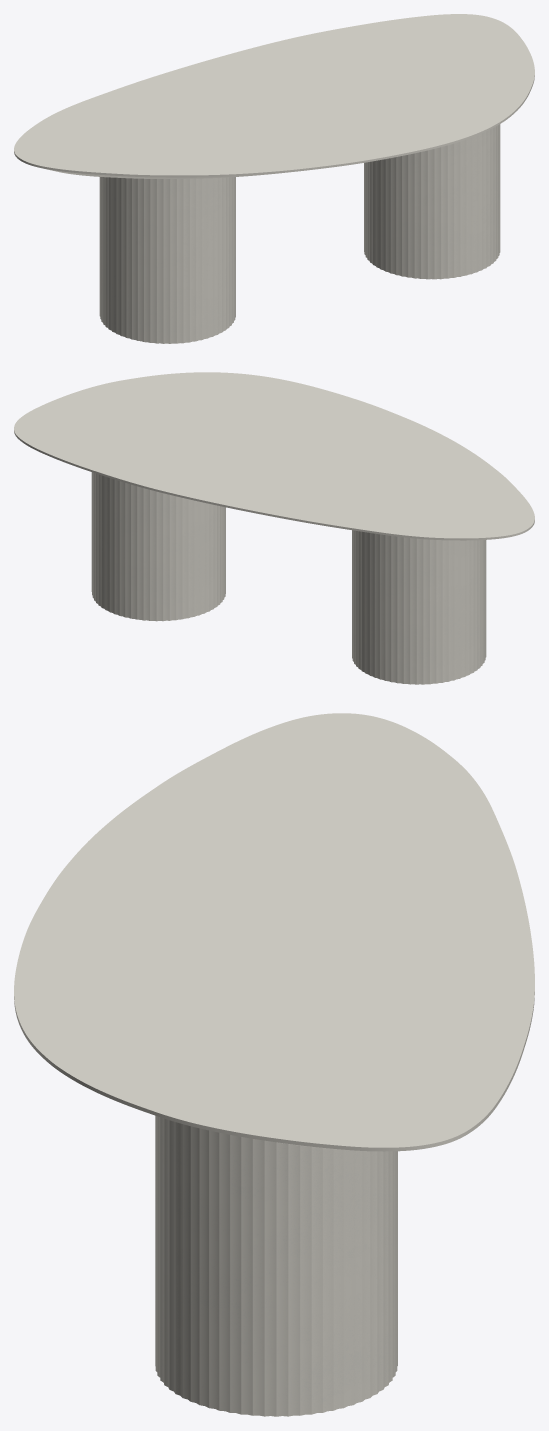
File: pale_pebbletop_facet_ripplesecond.glb
The picture shows the model from 3 angles, top to bottom: view 1: azimuth 30°, elevation 25°; view 2: azimuth 150°, elevation 25°; view 3: azimuth 270°, elevation 25°; orthographic projection. The views are drawn at different scales.
Parts seen in each view (by area): view 1: facet_pebbletop, ripplesecond; view 2: facet_pebbletop, ripplesecond; view 3: facet_pebbletop, ripplesecond.
Part boxes in pixels (box(x1,y1,x2,y2)): facet_pebbletop: box(14, 14, 534, 178); ripplesecond: box(99, 124, 500, 343); facet_pebbletop: box(14, 372, 534, 540); ripplesecond: box(91, 472, 486, 684); facet_pebbletop: box(14, 713, 534, 1151); ripplesecond: box(155, 1115, 397, 1416).
Bounding box in the file's own units: 7.5 × 2.5 × 3.8.
1 material, 1 textured.
